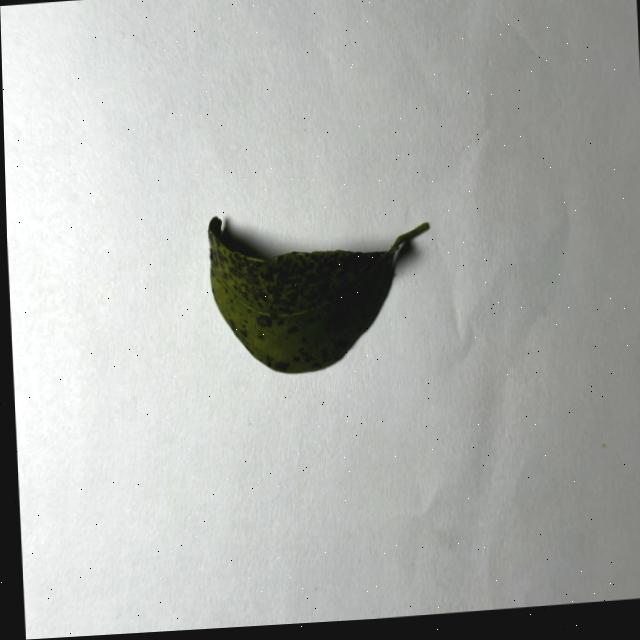sooty_mold: (207, 218, 395, 373)
